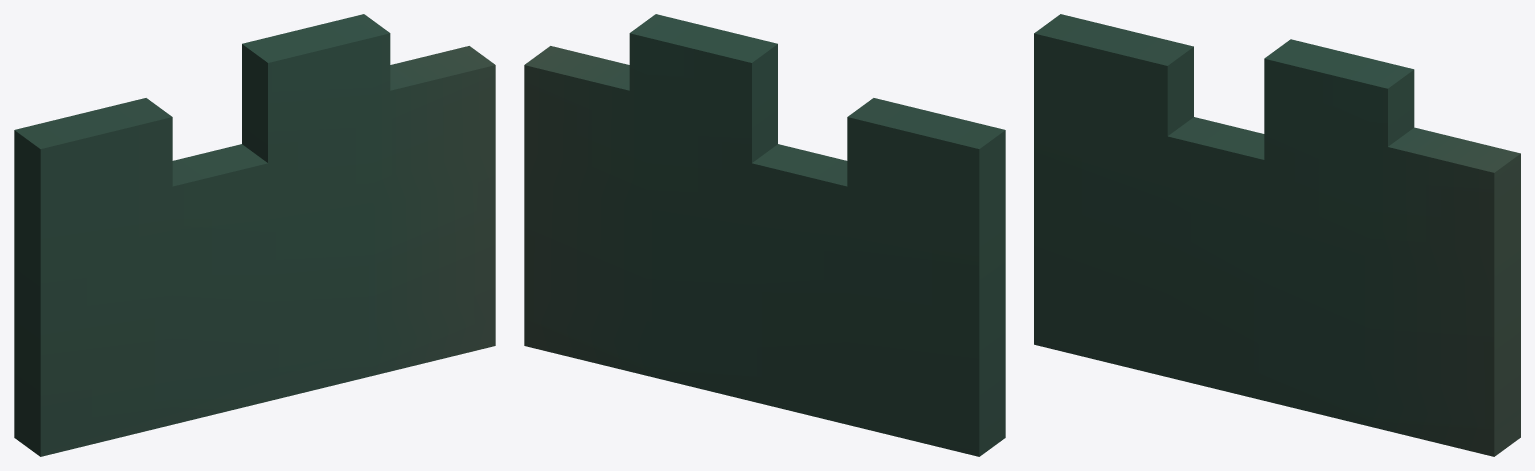
The model's file is SM_Wall_Broken_02.fbx.
3 views of the same model, side by side, from view 1: azimuth 30°, elevation 25°; view 2: azimuth 150°, elevation 25°; view 3: azimuth 330°, elevation 25° (orthographic).
Parts seen in each view (by area): view 1: SM_Wall_Broken_02; view 2: SM_Wall_Broken_02; view 3: SM_Wall_Broken_02.
Part boxes in pixels (bbox=[...]): SM_Wall_Broken_02: bbox=[14, 14, 495, 456]; SM_Wall_Broken_02: bbox=[524, 14, 1005, 456]; SM_Wall_Broken_02: bbox=[1034, 14, 1520, 456].
Bounding box in the file's own units: 500 × 355 × 50.
1 material, 1 textured.
